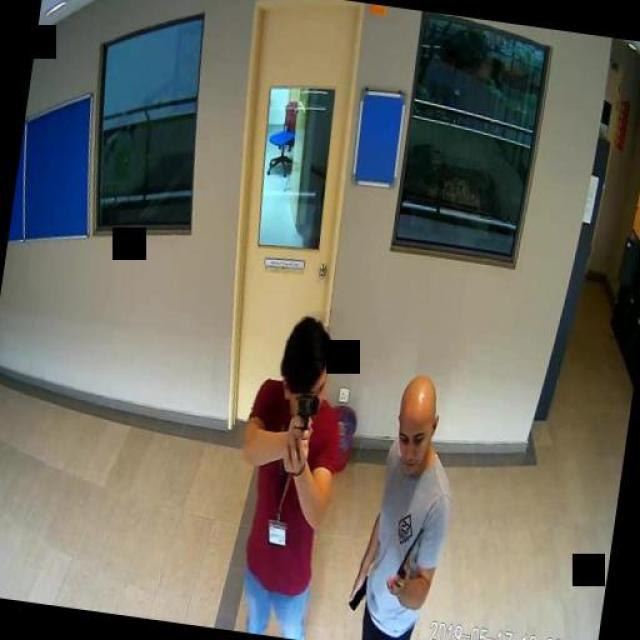gun: (290, 388, 319, 448)
